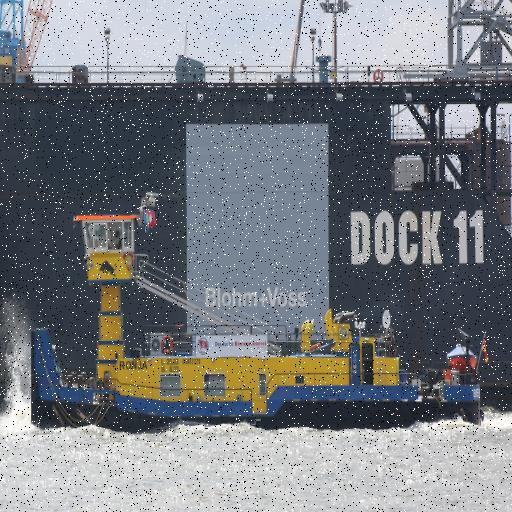tugboat: (30, 210, 488, 440)
